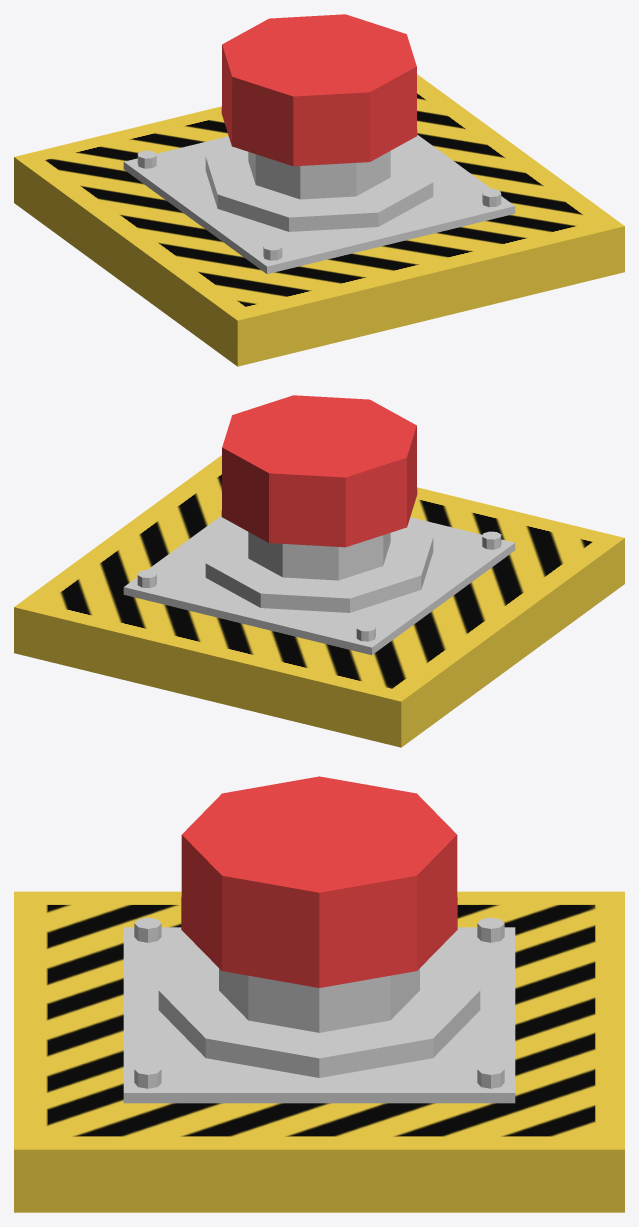
Rendered from button.fbx.
The picture shows the model from 3 angles, top to bottom: view 1: azimuth 30°, elevation 25°; view 2: azimuth 150°, elevation 25°; view 3: azimuth 270°, elevation 25°; orthographic projection. The views are drawn at different scales.
Visible parts, largest first — view 1: Cylinder001; view 2: Cylinder001; view 3: Cylinder001.
Boxes of the visible parts, x1,y1,x2,y2 form: Cylinder001: (14, 14, 624, 366); Cylinder001: (14, 395, 624, 747); Cylinder001: (14, 776, 624, 1212).
Size of the model in its own units: 0.2 by 0.0899 by 0.2.
Materials: 1 (1 with a texture image).
